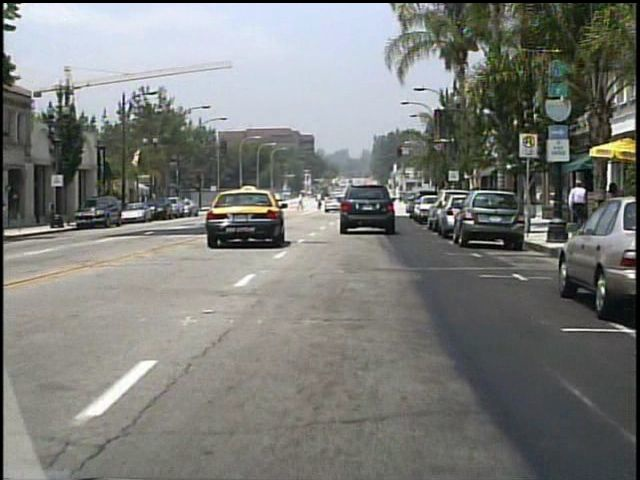person: (565, 179, 588, 231), (295, 192, 306, 212), (313, 193, 324, 212)
